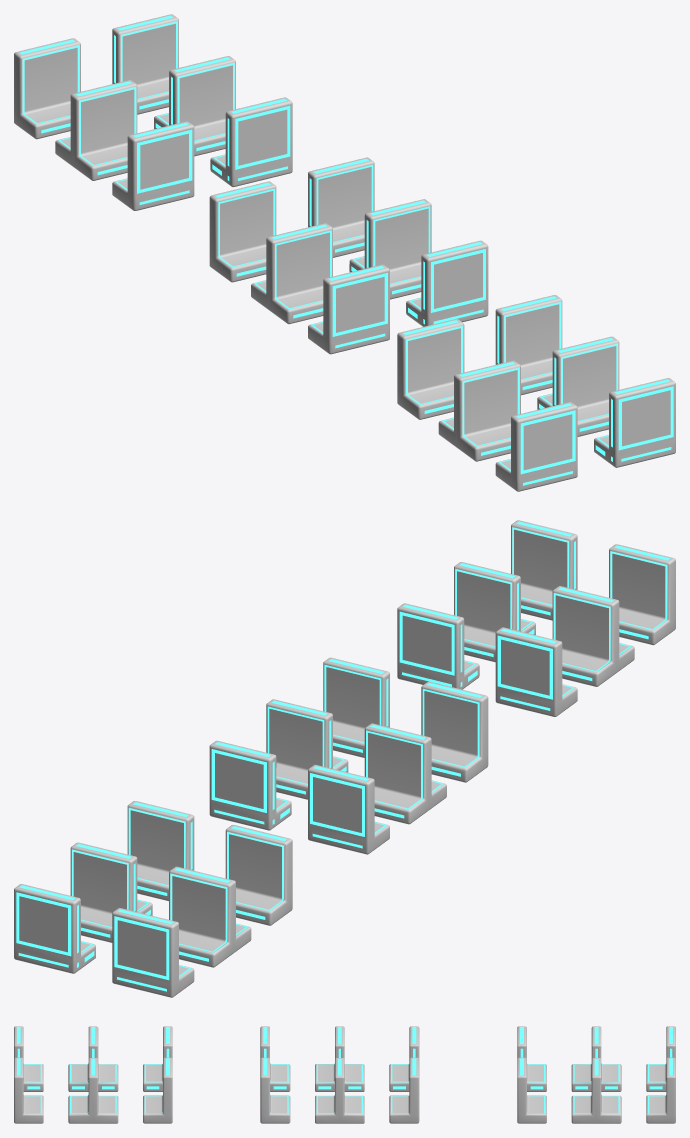
File: trainchairs.glb
3 renders of one model, top to bottom at view 1: azimuth 30°, elevation 25°; view 2: azimuth 150°, elevation 25°; view 3: azimuth 270°, elevation 25°, orthographic. The views are drawn at different scales.
Visible parts, largest first — view 1: Plane.006, Plane.008, Plane.002; view 2: Plane.008, Plane.002, Plane.006; view 3: Plane.002, Plane.006, Plane.008.
Boxes of the visible parts, <box> form: Plane.006: <box>397,295,675,491</box>; Plane.008: <box>14,14,292,210</box>; Plane.002: <box>209,157,488,354</box>; Plane.008: <box>14,801,292,997</box>; Plane.002: <box>209,657,488,854</box>; Plane.006: <box>397,520,675,716</box>; Plane.002: <box>260,1026,419,1123</box>; Plane.006: <box>14,1026,172,1123</box>; Plane.008: <box>517,1026,675,1123</box>.
Size of the model in its own units: 2.86 by 1.23 by 15.62.
